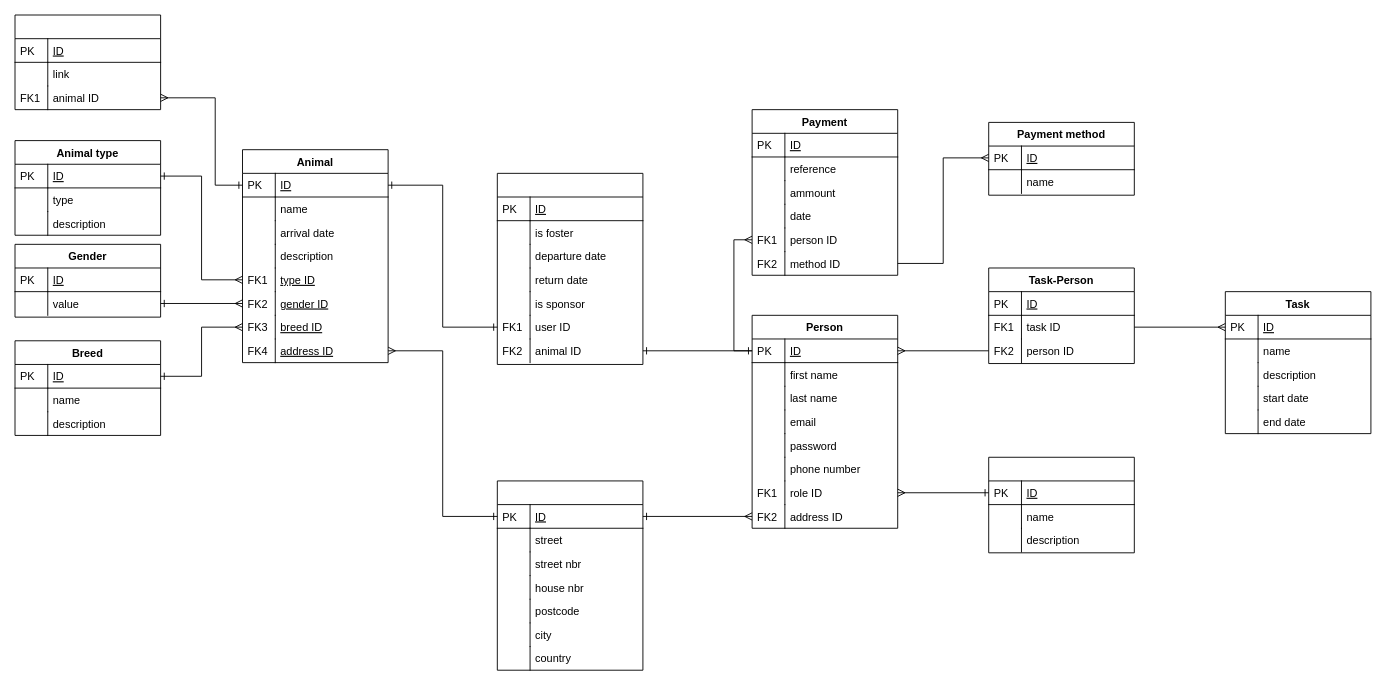
Image size: 1386x685. Some labels were removed from this diagram. The shapes that lost their labels are listed below. From the top down, each one's box as (x1, y1, x2, y2) in pixels, then its label:
(14, 14, 161, 110): Photo
(496, 172, 643, 364): Animal-Person
(988, 456, 1134, 553): Role
(496, 480, 643, 670): Address
